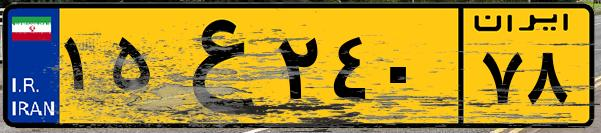0: (385, 28, 445, 110)
1: (57, 26, 110, 100)
2: (270, 28, 330, 110)
4: (330, 28, 385, 110)
5: (110, 28, 158, 98)
7: (475, 38, 525, 113)
8: (525, 38, 570, 115)
ع: (158, 12, 270, 120)
